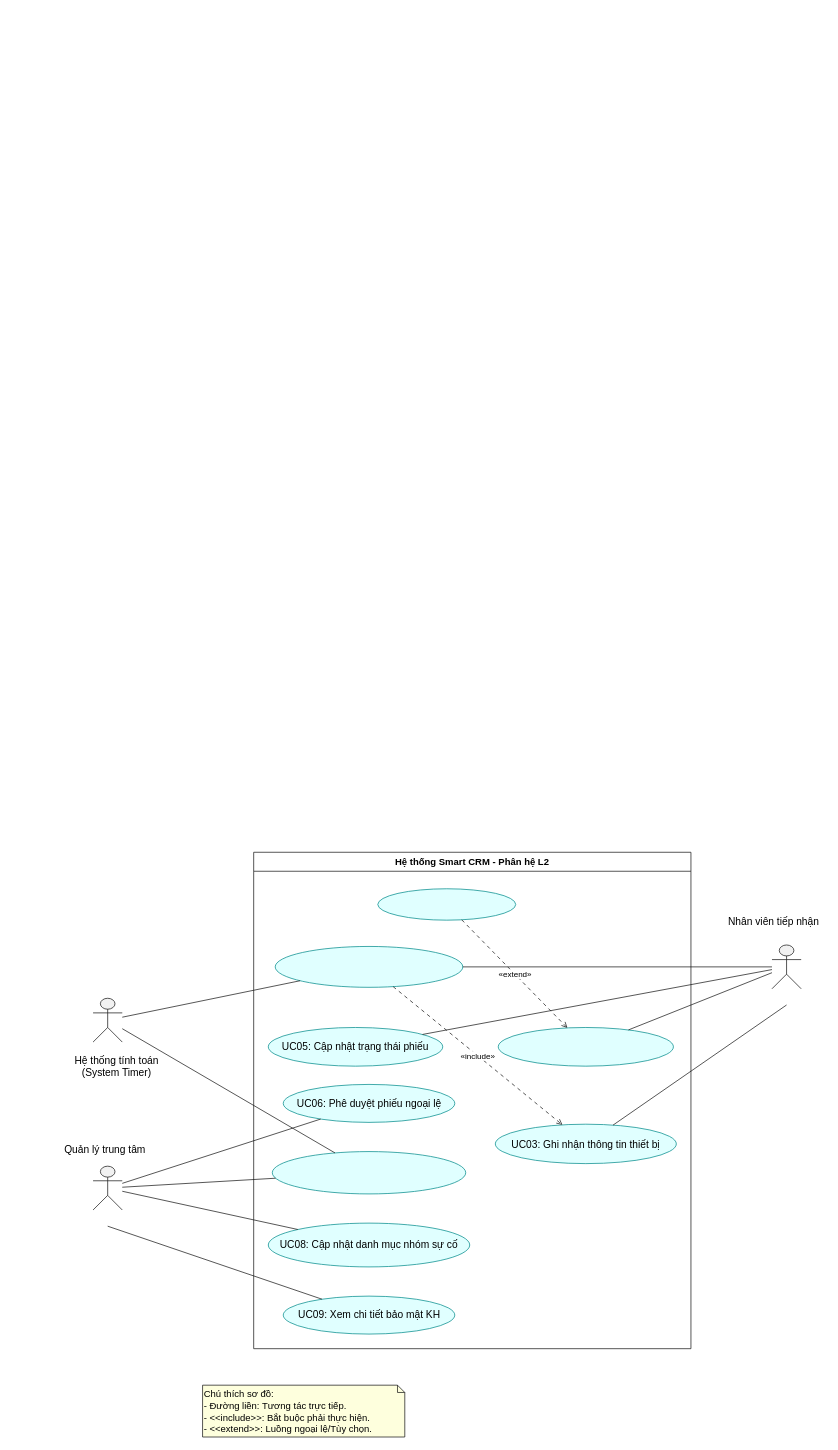
Image size: 838x1450. Some labels were removed from this diagram. Each missing label, with the centre of its shape:
"UC01: Tra cứu hồ sơ khách hàng" belongs at pixel 585 1046.
"UC02: Tạo hồ sơ KH mới" belongs at pixel 446 904.
"UC04: Lập phiếu yêu cầu bảo hành" belongs at pixel 368 966.
"UC07: Giám sát tiến độ phiếu (SLA)" belongs at pixel 369 1172.
